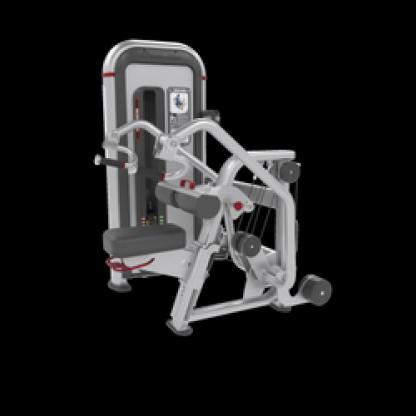seated dip machine: (97, 41, 333, 335)
